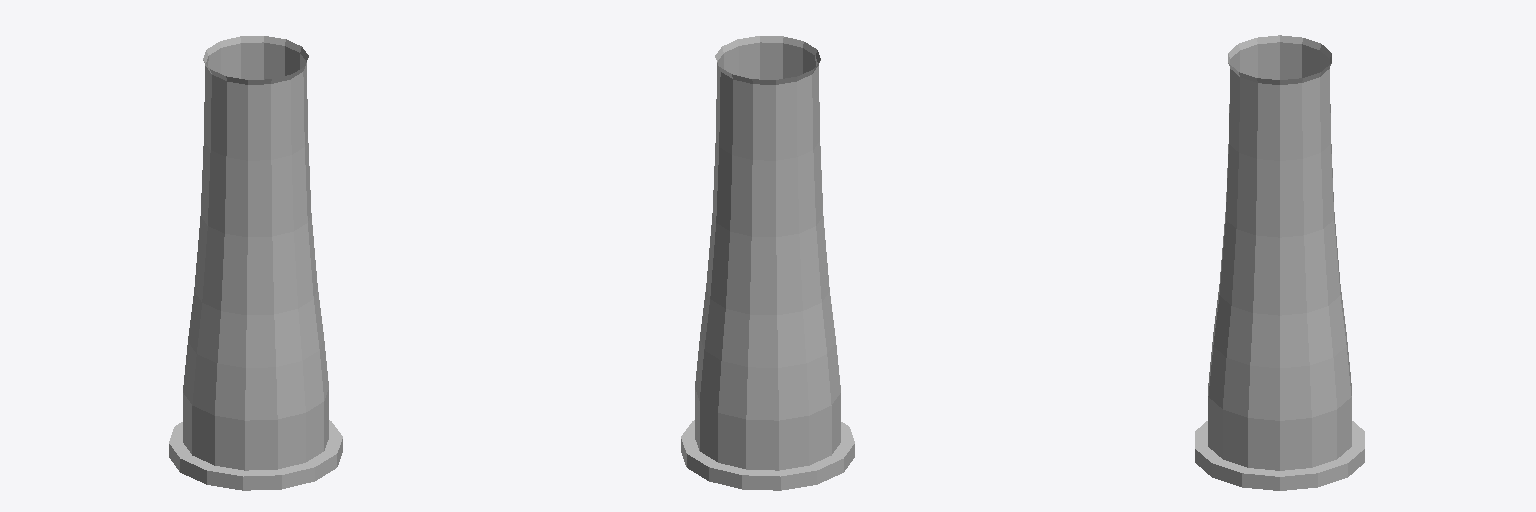
Rendered from Cooling_Tower.obj.
The picture shows the model from 3 angles: view 1: azimuth 30°, elevation 25°; view 2: azimuth 150°, elevation 25°; view 3: azimuth 270°, elevation 25°; orthographic projection.
Visible parts, largest first — view 1: Cooling_tower; view 2: Cooling_tower; view 3: Cooling_tower.
Part boxes in pixels (bbox=[...]): Cooling_tower: bbox=[169, 36, 342, 490]; Cooling_tower: bbox=[681, 36, 854, 490]; Cooling_tower: bbox=[1195, 35, 1364, 490].
Bounding box in the file's own units: 4.52 × 11.29 × 4.4.